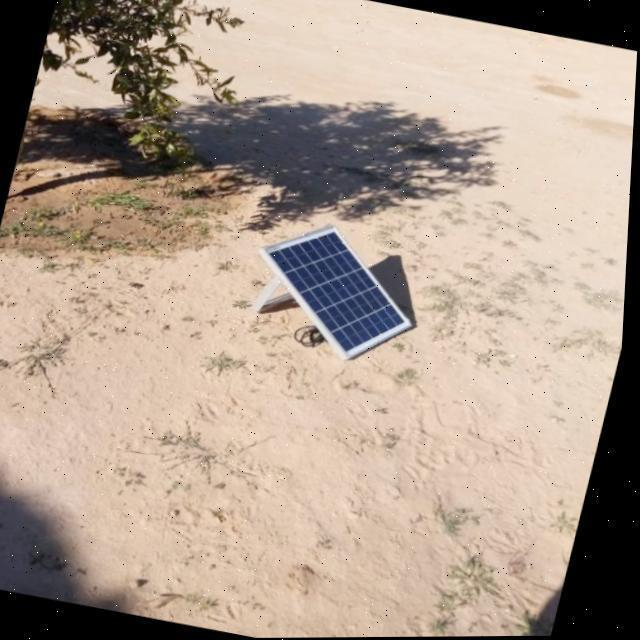Normal Solar Panel: (242, 214, 434, 368)
